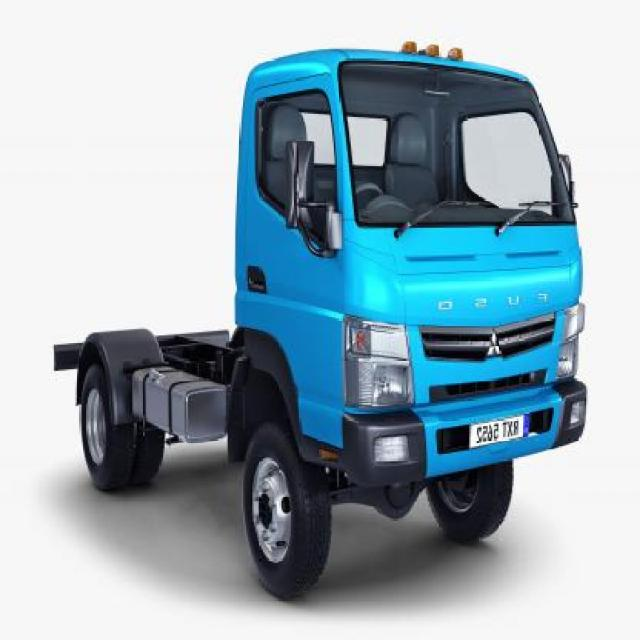truck: (54, 38, 588, 602)
